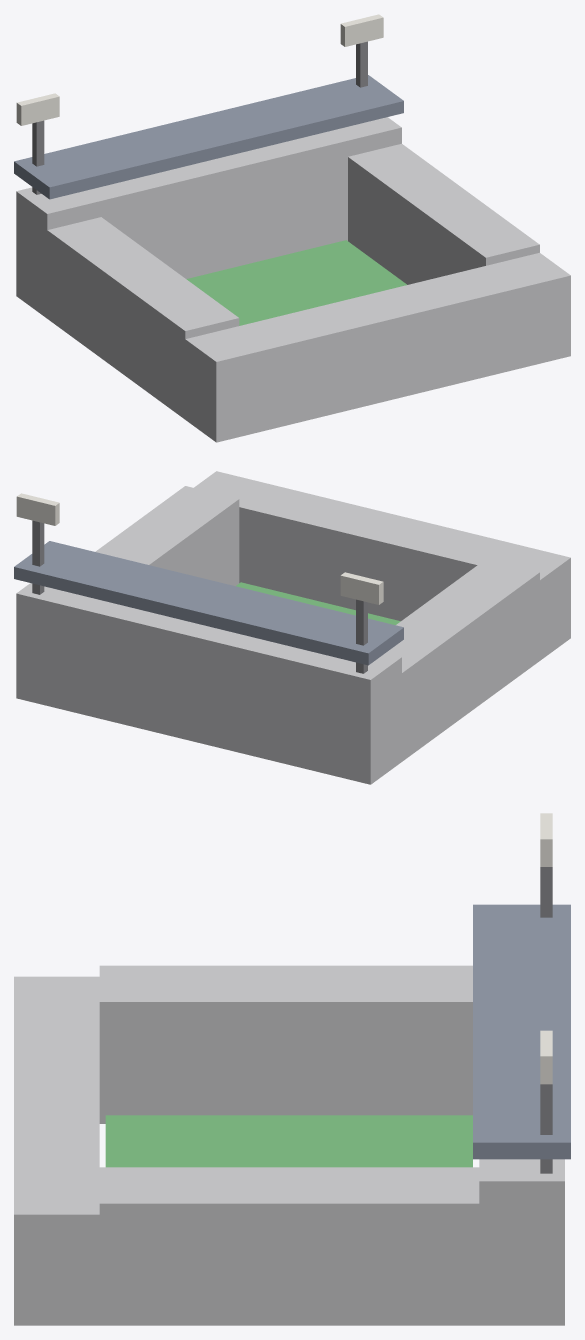
File: stadium.glb
3 renders of one model, top to bottom at view 1: azimuth 30°, elevation 25°; view 2: azimuth 150°, elevation 25°; view 3: azimuth 270°, elevation 25°, orthographic. The views are drawn at different scales.
Visible parts, largest first — view 1: stadium; view 2: stadium; view 3: stadium.
Boxes of the visible parts, x1,y1,x2,y2 form: stadium: (14, 14, 570, 442); stadium: (14, 471, 570, 784); stadium: (14, 813, 570, 1325).
Size of the model in its own units: 0.94 by 0.49 by 0.91.
